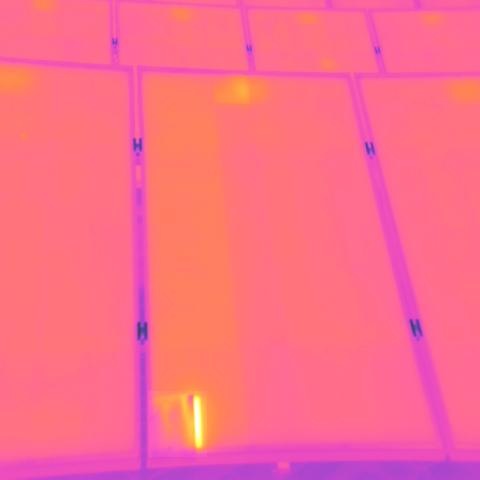fault: (148, 391, 207, 457)
